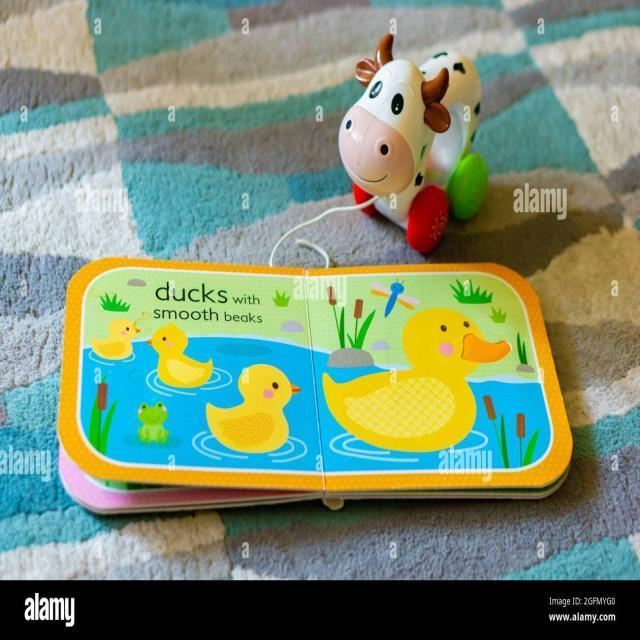hard-toy: (340, 35, 489, 253)
